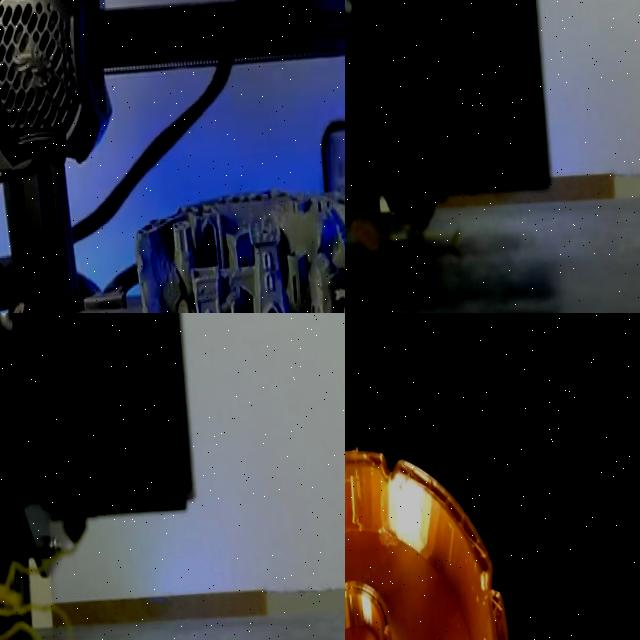spaghetti: (350, 202, 425, 255), (41, 551, 62, 569)
